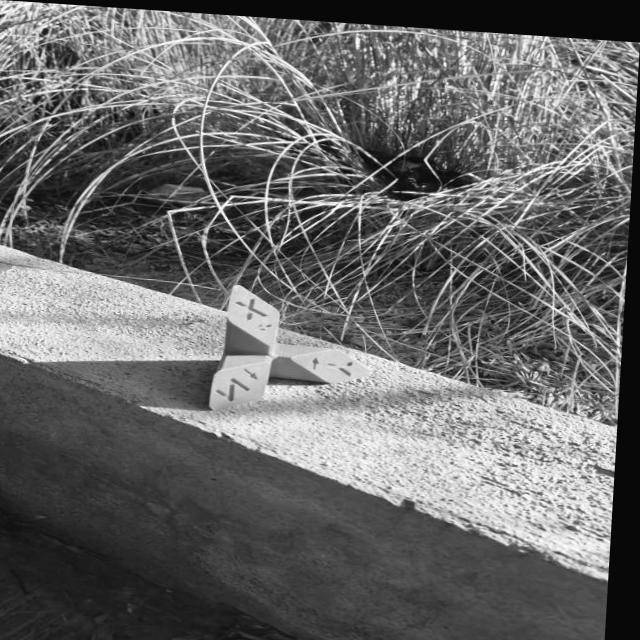eje: (206, 283, 380, 422)
